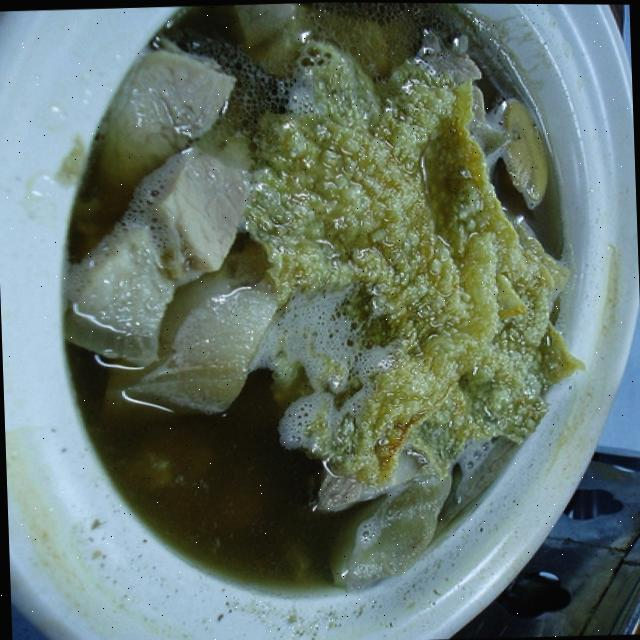汤锅炖物: (14, 0, 619, 631)
